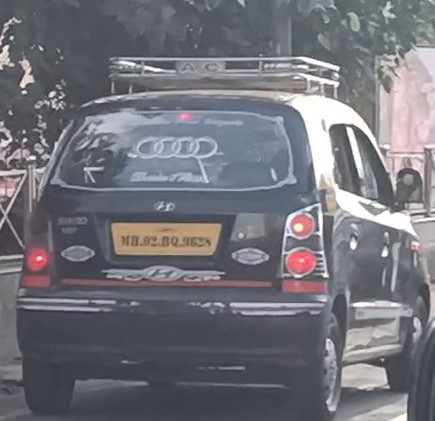MH02BQ9628: (111, 222, 221, 255)
